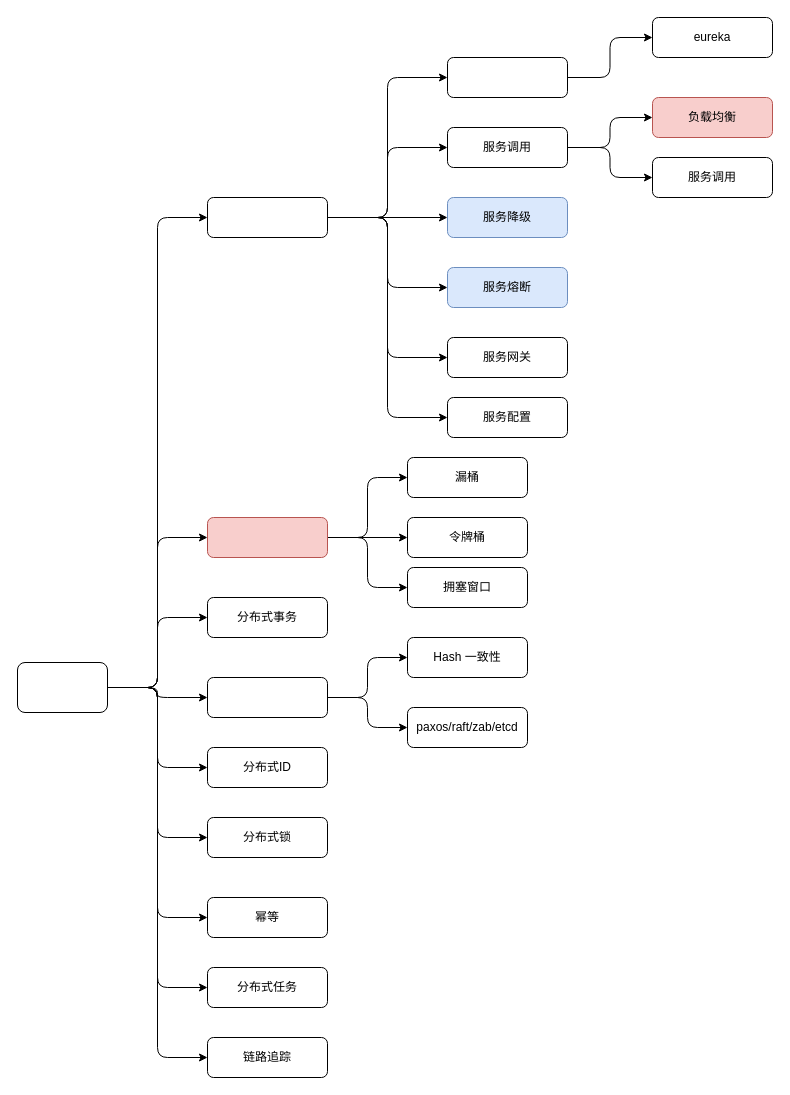
Some shapes in this 790 by 1095 pixel diagram are drawn without their labels. The centre of each missing label's shape, as x and y in pixels:
"分布式" belongs at point 62,687.
"分布式一致性" belongs at point 267,697.
"微服务相关" belongs at point 267,217.
"服务发现" belongs at point 507,77.
"限流" belongs at point 267,537.
